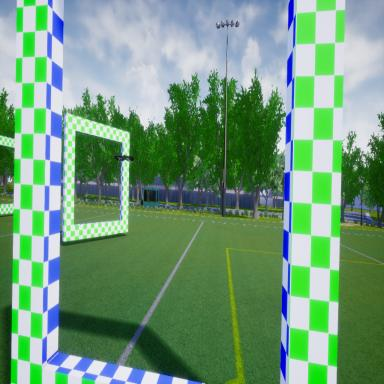gate: (11, 0, 348, 384), (62, 109, 131, 250)
